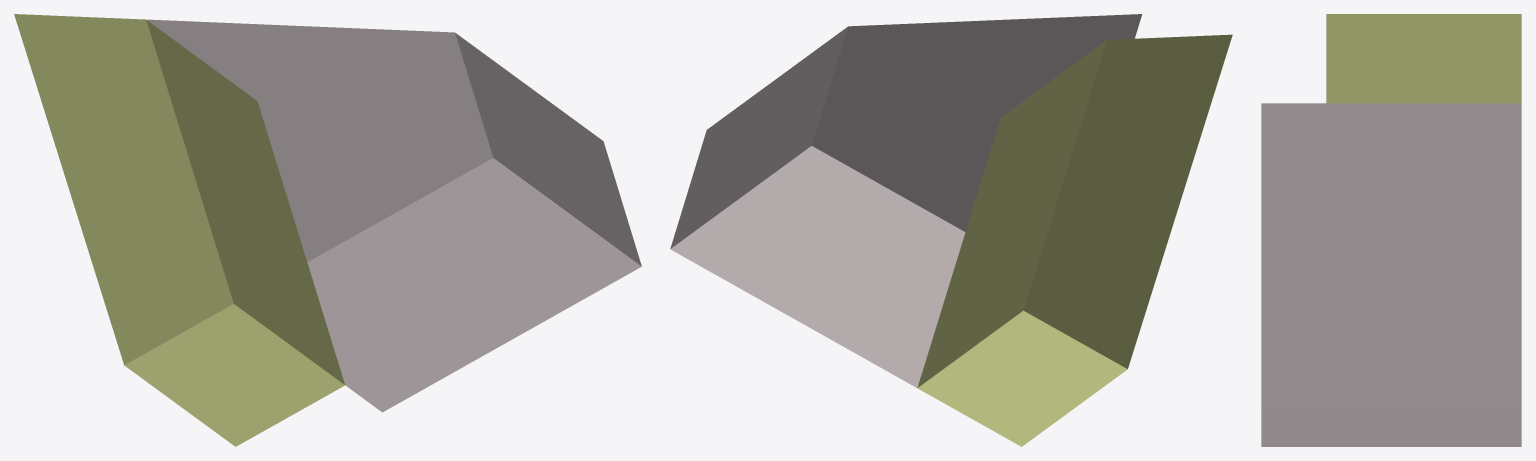
3 renders of one model, left to right at view 1: azimuth 30°, elevation 25°; view 2: azimuth 150°, elevation 25°; view 3: azimuth 270°, elevation 25°, orthographic. The views are drawn at different scales.
Visible parts, largest first — view 1: 0_1_3_2_2_2_0_1_0_1; view 2: 0_1_3_2_2_2_0_1_0_1; view 3: 0_1_3_2_2_2_0_1_0_1.
Part boxes in pixels (box(x1,y1,x2,y2)): 0_1_3_2_2_2_0_1_0_1: box(14, 14, 641, 446); 0_1_3_2_2_2_0_1_0_1: box(670, 14, 1232, 446); 0_1_3_2_2_2_0_1_0_1: box(1261, 14, 1521, 446).
Size of the model in its own units: 22.35 by 16.85 by 12.
